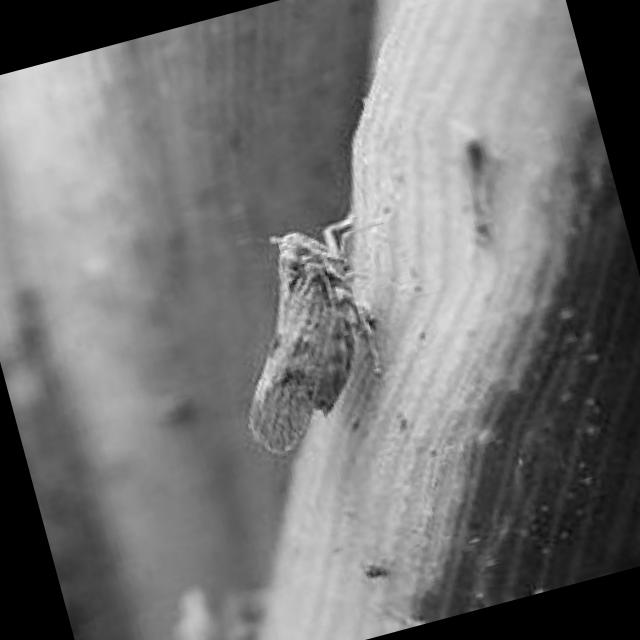brown-planthopper: (208, 211, 406, 457)
